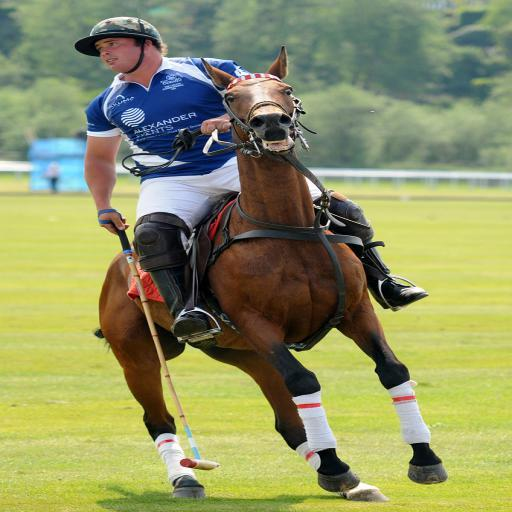Horse: (90, 44, 450, 502)
